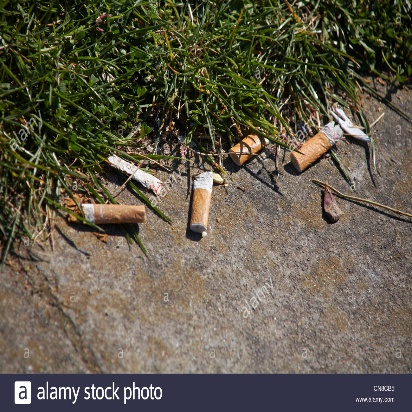cigarette: (286, 120, 349, 177), (105, 150, 165, 197), (76, 200, 149, 233), (186, 165, 215, 241), (226, 124, 272, 167)
